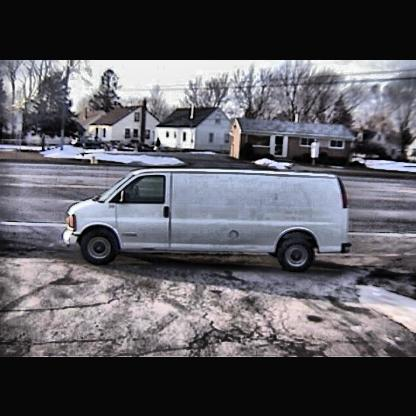Chevrolet Express Cargo Van 2007: (58, 166, 355, 274)
